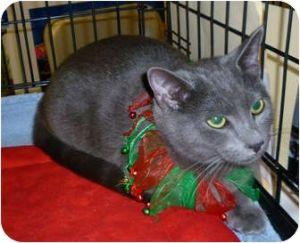rblue: (144, 24, 285, 180)
